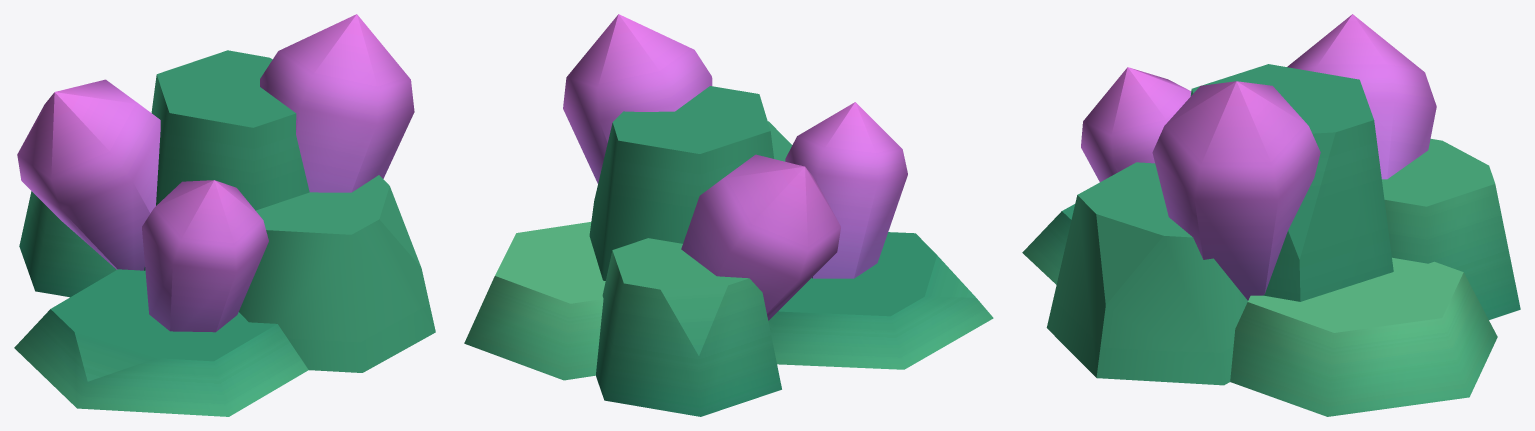
Rendered from blue_crystal.glb.
3 renders of one model, left to right at view 1: azimuth 30°, elevation 25°; view 2: azimuth 150°, elevation 25°; view 3: azimuth 270°, elevation 25°, orthographic. The views are drawn at different scales.
Visible parts, largest first — view 1: detail-crystal-large; view 2: detail-crystal-large; view 3: detail-crystal-large.
Part boxes in pixels (box(x1,y1,x2,y2)): detail-crystal-large: box(14, 14, 435, 416); detail-crystal-large: box(464, 14, 993, 416); detail-crystal-large: box(1022, 14, 1520, 416).
Bounding box in the file's own units: 0.8922 × 0.5518 × 0.8593.
Materials: 1 (1 with a texture image).
